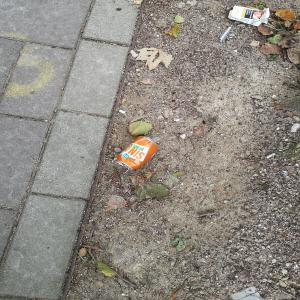Can: (114, 135, 163, 174)
Trash: (226, 5, 276, 30)
